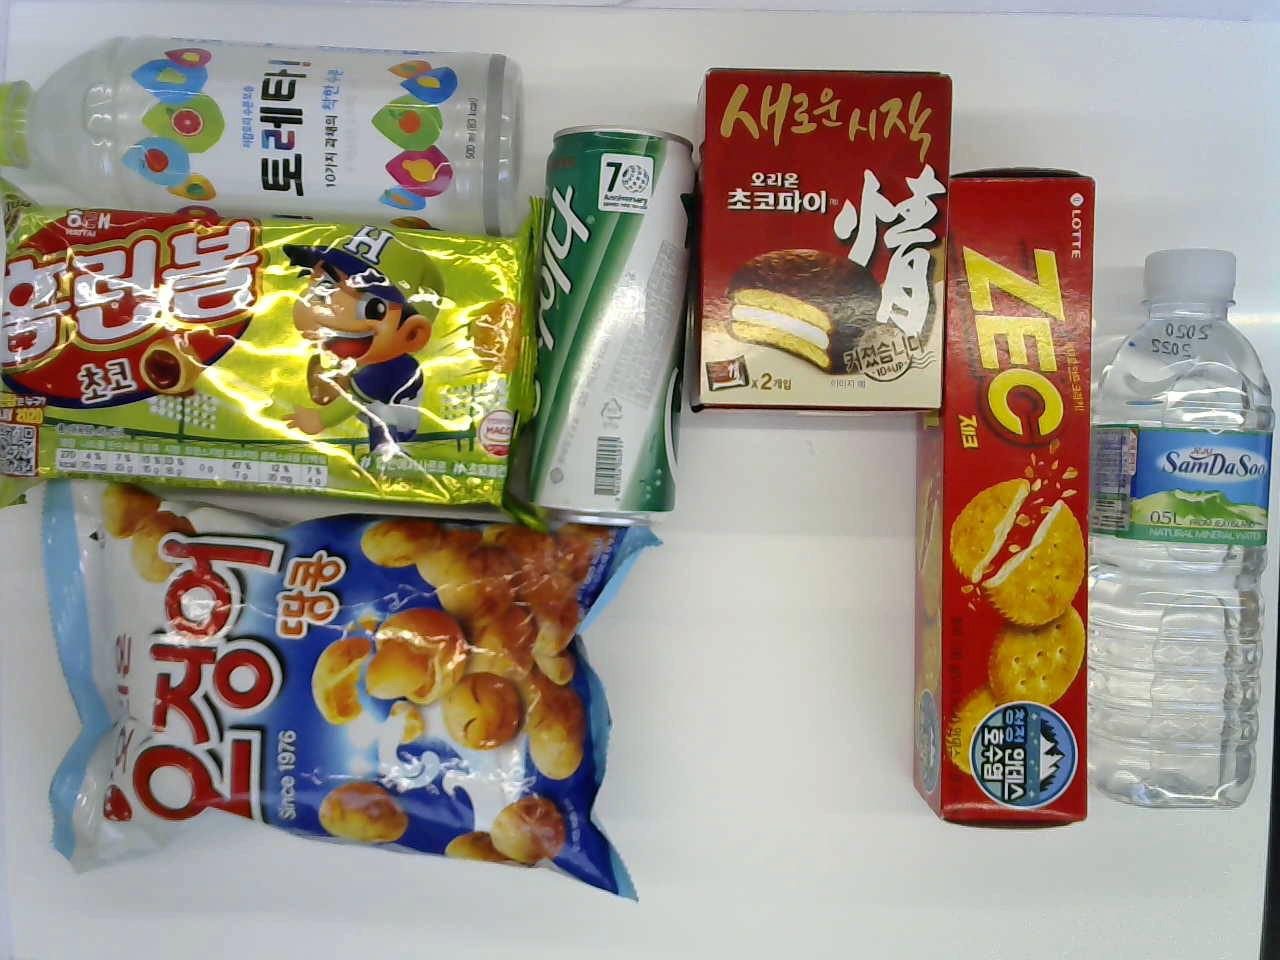chocopie: (693, 40, 963, 419)
cidar: (524, 123, 697, 525)
homerunball: (0, 198, 535, 525)
samdasu: (1089, 229, 1274, 823)
squid_peanut: (41, 485, 638, 897)
toreta: (0, 32, 535, 223)
zec: (916, 164, 1112, 835)
